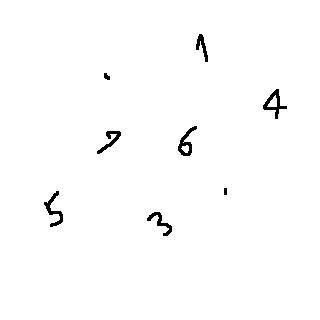.: (100, 66, 115, 90), (220, 184, 231, 198)
1: (189, 24, 217, 68)
3: (136, 204, 179, 238)
4: (255, 79, 301, 123)
5: (37, 186, 77, 237)
6: (175, 120, 206, 165)
7: (95, 128, 125, 160)
